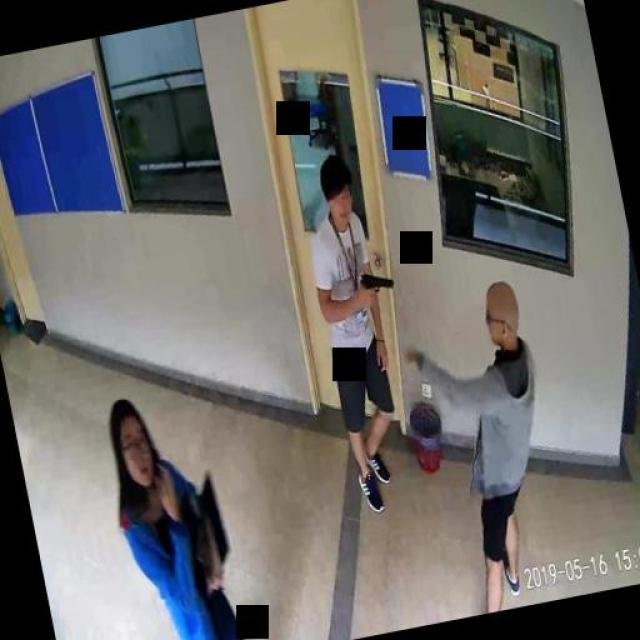gun: (357, 266, 395, 306)
